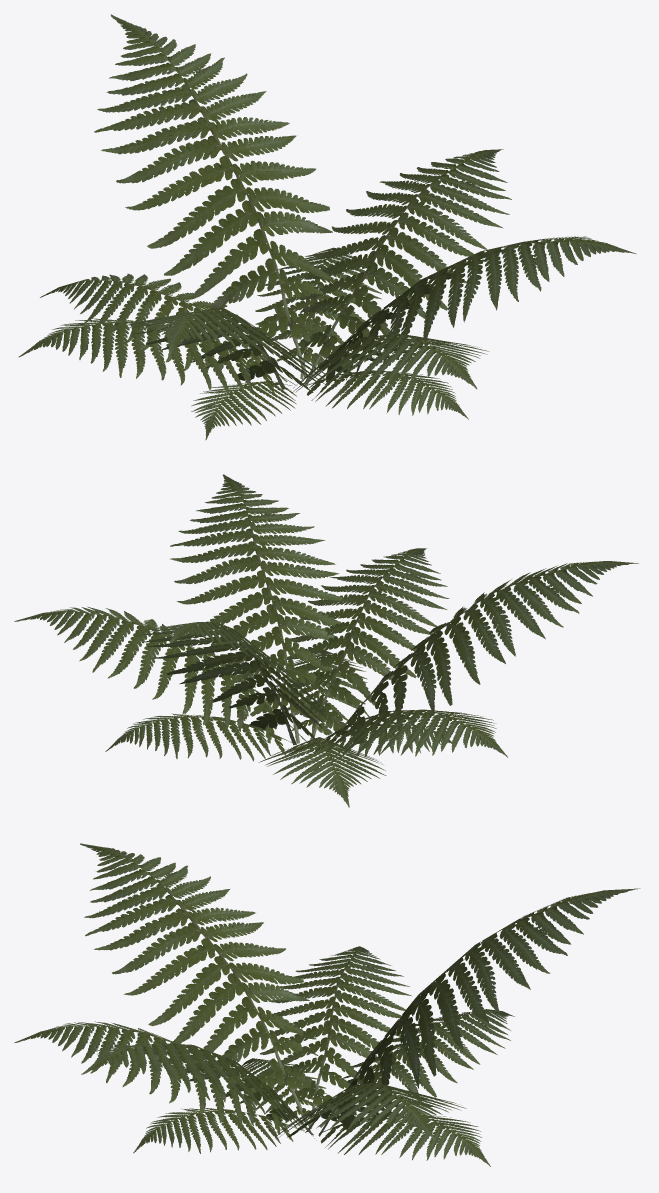
File: scene-nomorph.glb
The picture shows the model from 3 angles, top to bottom: view 1: azimuth 30°, elevation 25°; view 2: azimuth 150°, elevation 25°; view 3: azimuth 270°, elevation 25°; orthographic projection. The views are drawn at different scales.
Visible parts, largest first — view 1: Tree_0; view 2: Tree_0; view 3: Tree_0.
Boxes of the visible parts, box(x1,y1,x2,y2) form: Tree_0: box(18, 14, 636, 440); Tree_0: box(14, 474, 638, 807); Tree_0: box(14, 843, 640, 1166).
Bounding box in the file's own units: 2.17 × 0.9346 × 2.26.
1 material, 1 textured.
